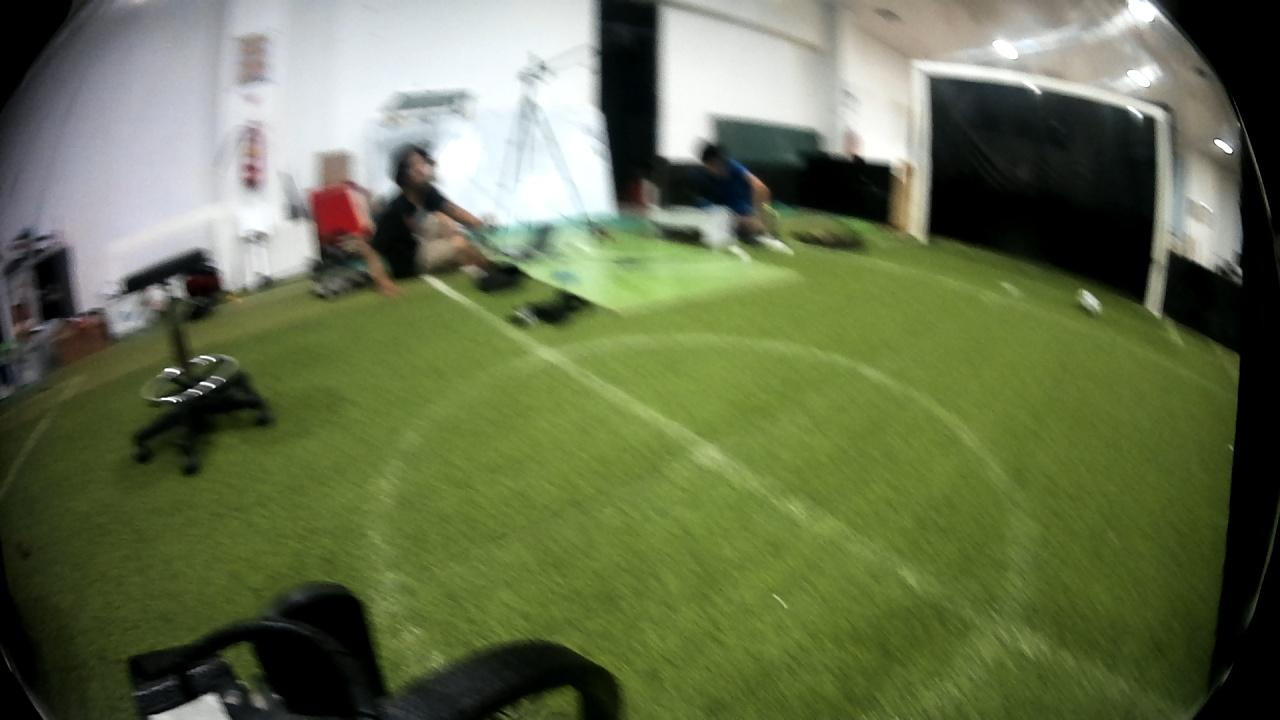ball: (1072, 287, 1109, 320)
